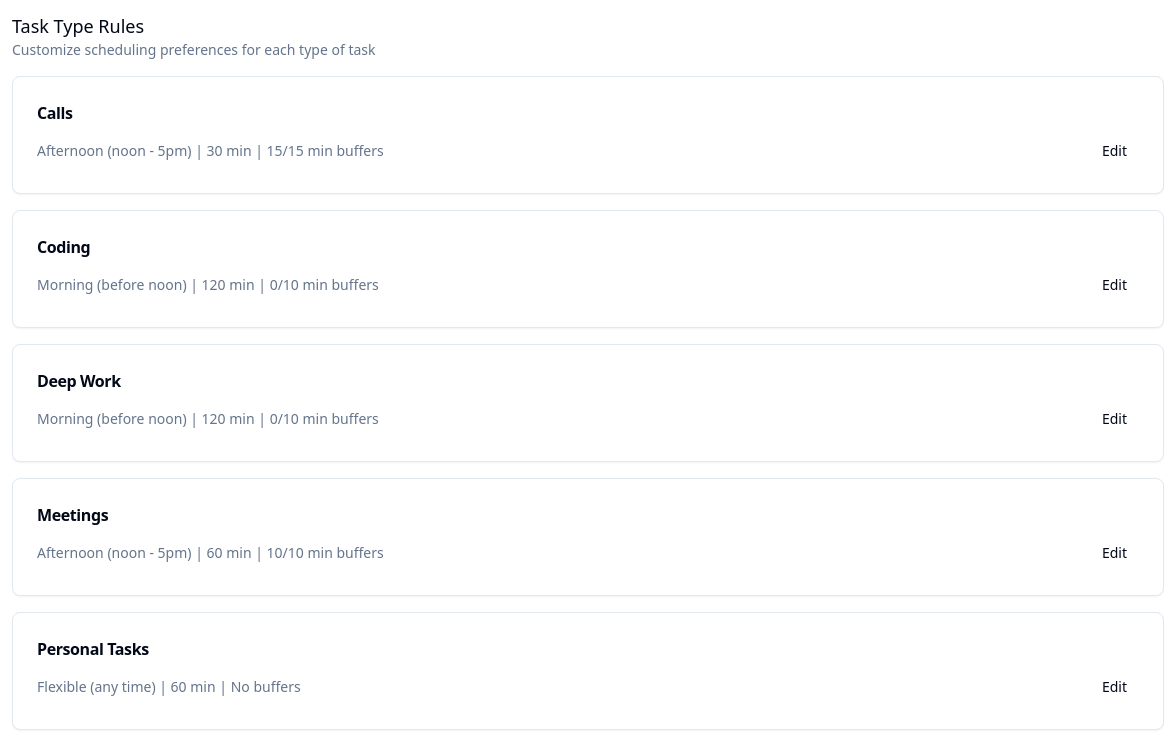
it: TaskTypeRules › editing › shows edit form when edit button is clicked
The width and height of the screenshot is (1164, 732).
Step 1. Click the button with test id "edit-rule-deep_work" → (1114, 419), box x1=1090 y1=401 x2=1139 y2=437
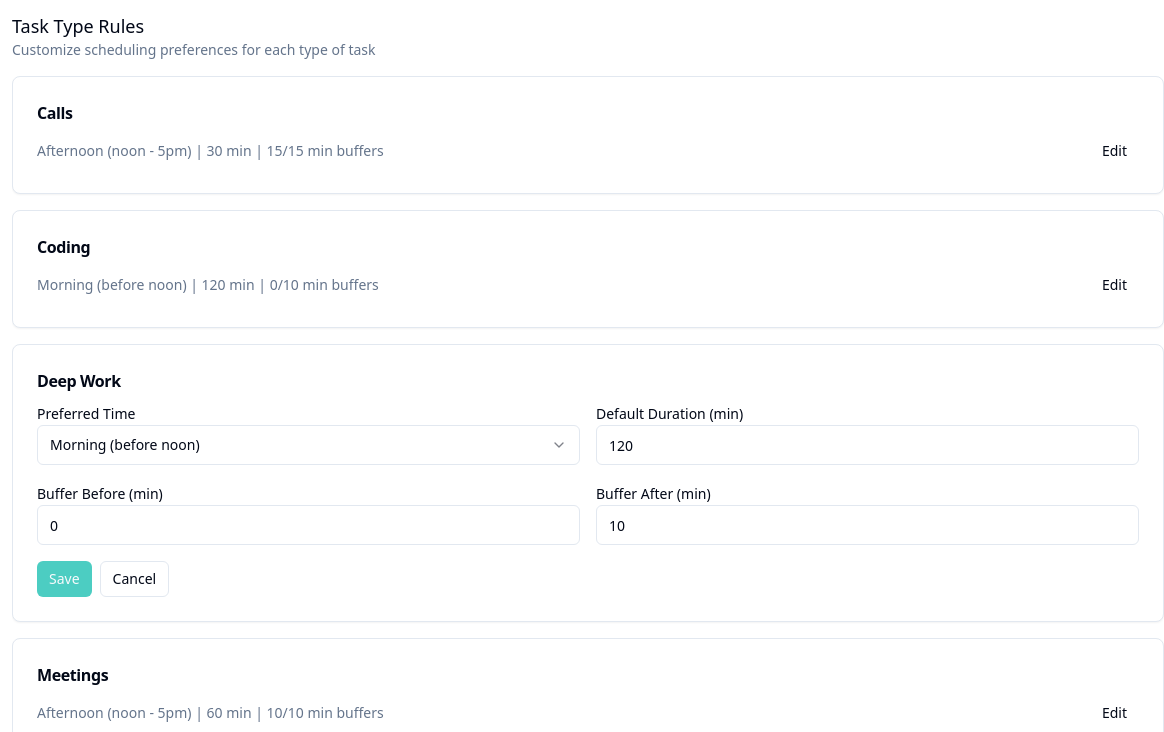
Expected: the number field labelled "Default Duration (min)" is shown, x1=596 y1=425 x2=1139 y2=465
Expected: the number field labelled "Buffer Before (min)" is shown, x1=37 y1=505 x2=580 y2=545
Expected: the number field labelled "Buffer After (min)" is shown, x1=596 y1=505 x2=1139 y2=545
